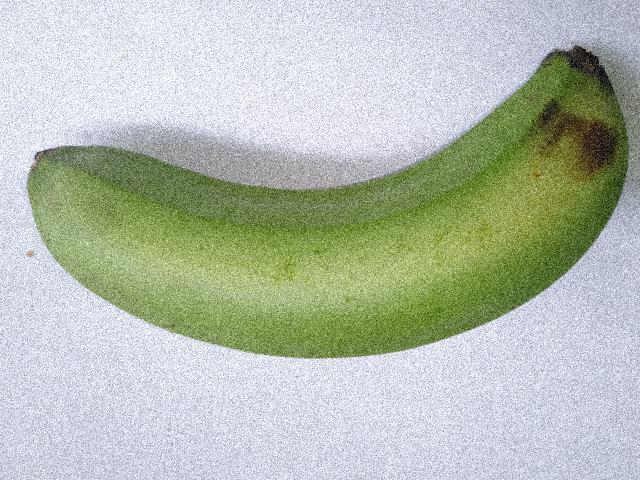freshunripe: (20, 18, 639, 388)
